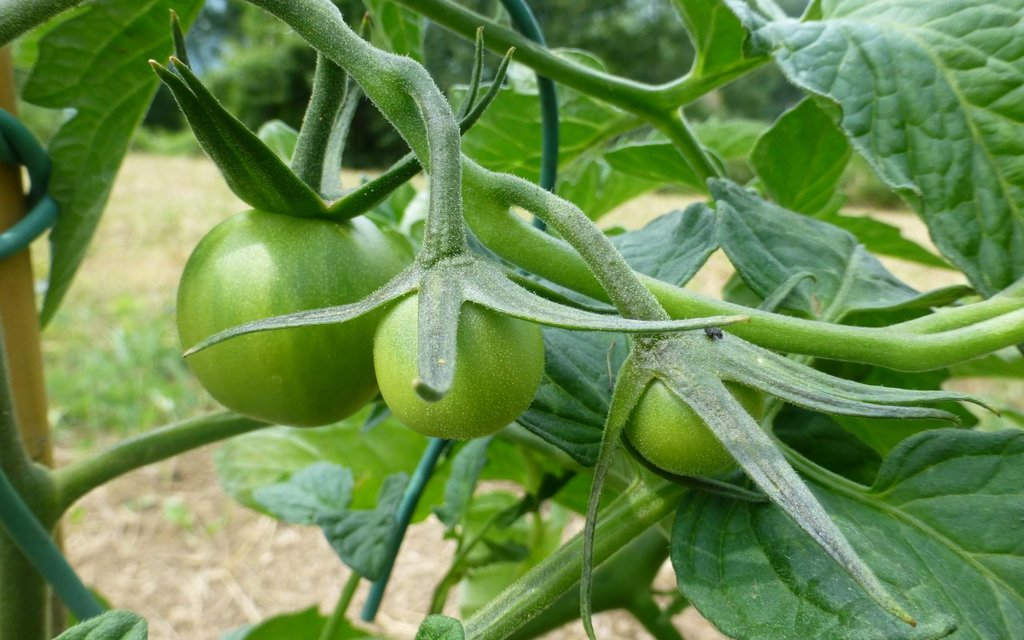Tomato: (181, 164, 381, 423), (371, 292, 543, 442), (624, 379, 760, 473)
